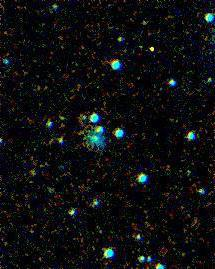star: (139, 35, 169, 65)
